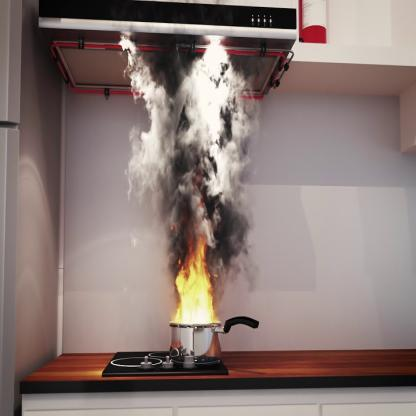fire: (171, 229, 221, 327)
smoke: (119, 42, 261, 305)
